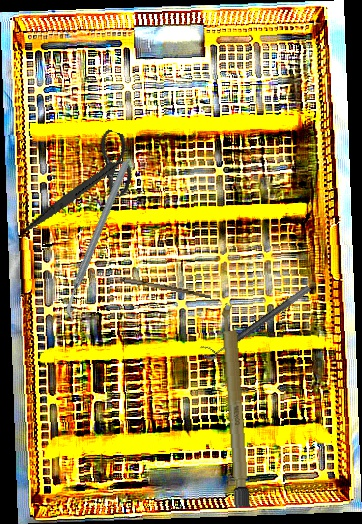Chopper: (16, 159, 180, 323)
Fixation Ring: (198, 276, 312, 364)
Iris Scissors: (23, 113, 145, 258)
Scalpel Handle: (220, 302, 251, 508)
Surgical Spoon: (90, 271, 212, 299)
